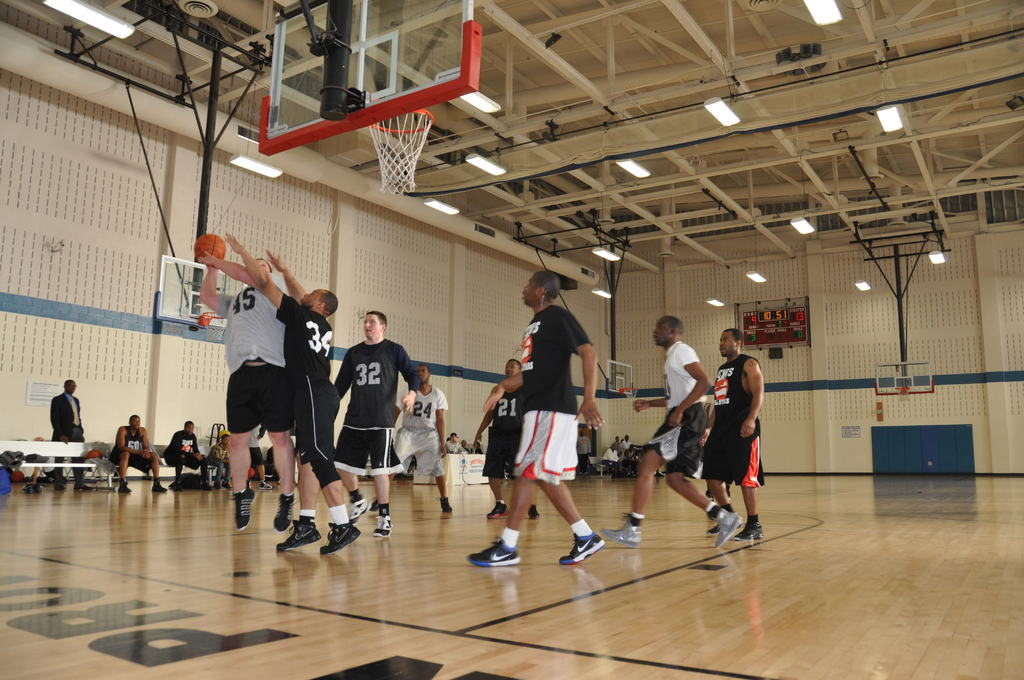Ball: (191, 232, 226, 264)
